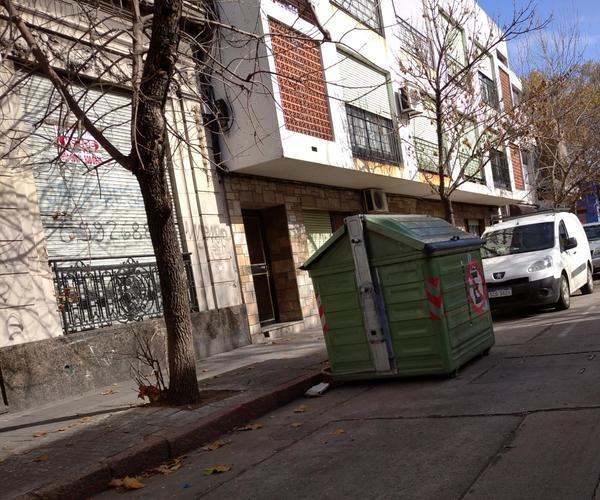Dechets: (304, 375, 331, 398)
Trash: (300, 214, 494, 379)
